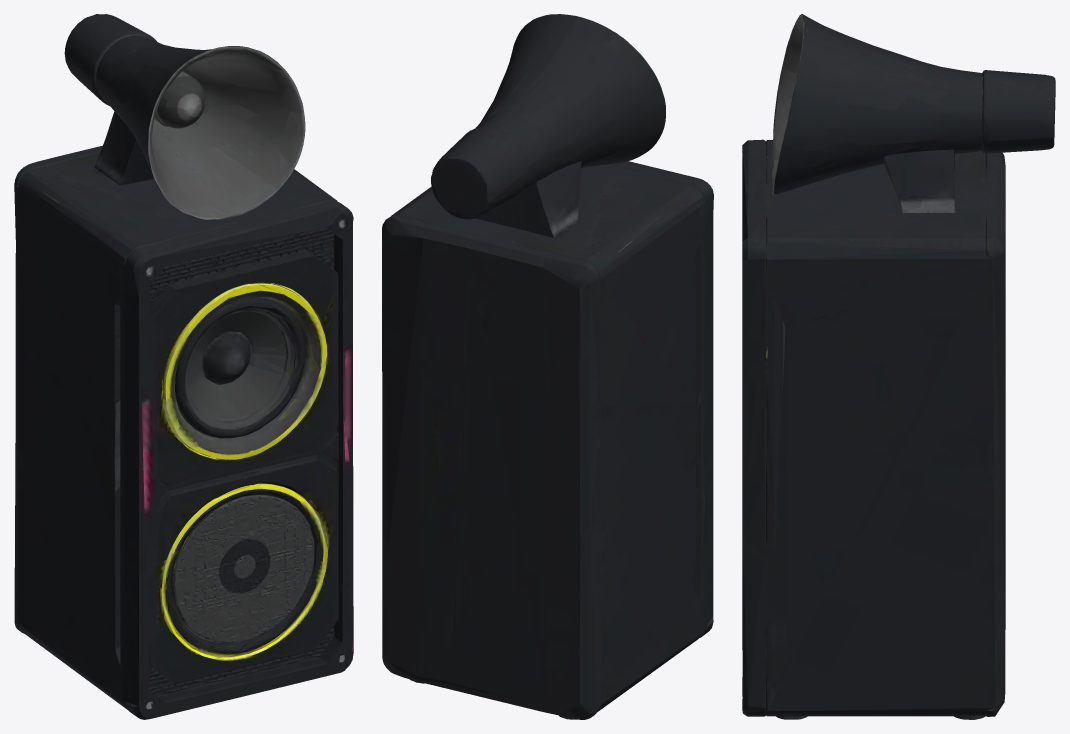
File: speaker.glb
3 views of the same model, side by side, from view 1: azimuth 30°, elevation 25°; view 2: azimuth 150°, elevation 25°; view 3: azimuth 270°, elevation 25° (orthographic). The views are drawn at different scales.
Size of the model in its own units: 0.6925 by 1.9 by 0.8304.
1 material, 1 textured.
